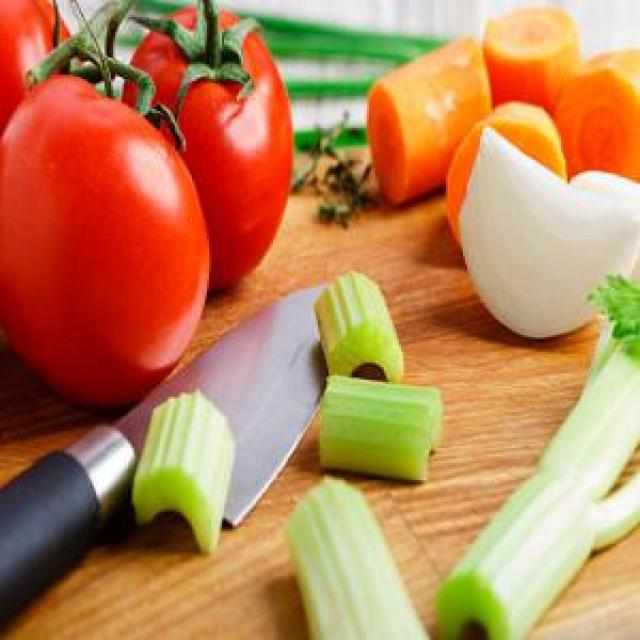knife: (0, 278, 361, 630)
